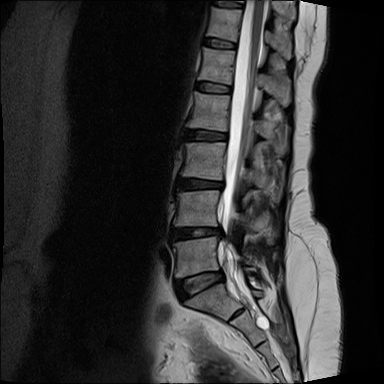Lumbar Disc Bulge (LDB): (169, 265, 229, 307), (168, 223, 227, 245), (172, 171, 228, 194)
Normal IVD: (181, 124, 231, 146), (190, 76, 234, 97), (198, 33, 240, 51)
Spinal Stenosis (SS): (214, 262, 229, 288), (212, 220, 228, 242), (215, 175, 231, 192)
